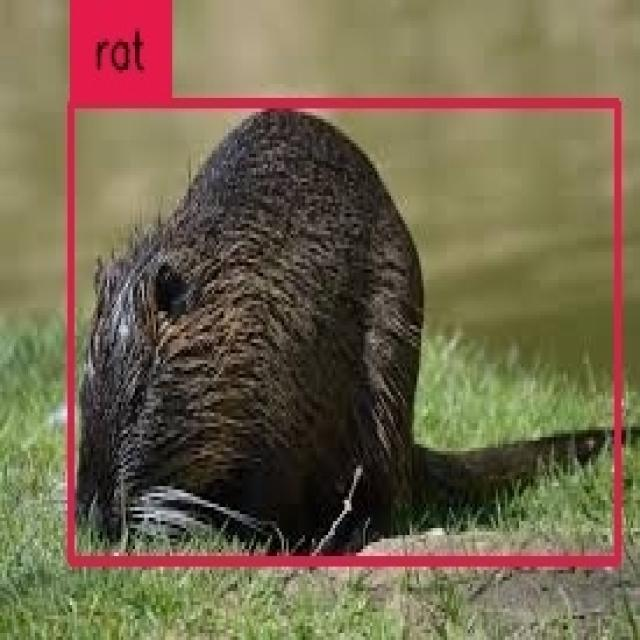rat: (71, 105, 618, 563)
